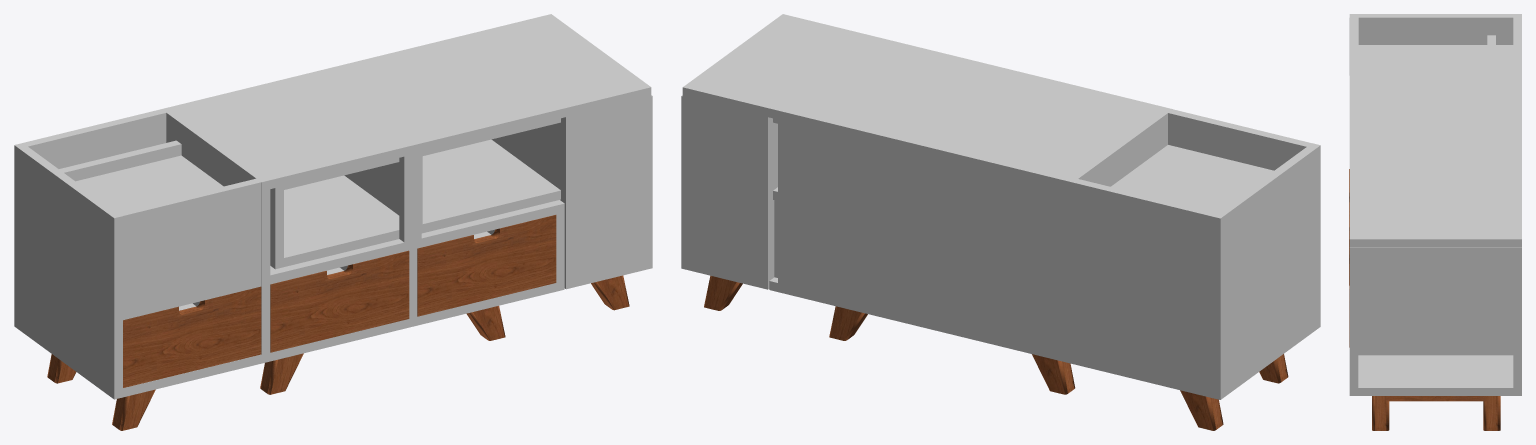
File: ishana.glb
The picture shows the model from 3 angles, left to right: view 1: azimuth 30°, elevation 25°; view 2: azimuth 150°, elevation 25°; view 3: azimuth 270°, elevation 25°; orthographic projection. The views are drawn at different scales.
Parts seen in each view (by area): view 1: G-__555618, G-__556005, G-__555627, G-__555690, G-__555861, G-__555807, G-__555753, G-__555717, G-__555645, G-__555888, G-__555654, G-__555600 (+7 smaller); view 2: G-__555636, G-__555618, G-__555888, G-__555627, G-__556005, G-__555654, G-__555717, G-__555645, G-__555690, G-__556077, G-__556050, G-__556095; view 3: G-__555618, G-__556005, G-__555627, G-__555654, G-__555645, G-__555690, G-__555888, G-__556014.
Part boxes in pixels (x1=…): G-__555618: x1=170, y1=14, x2=651, y2=188; G-__556005: x1=270, y1=95, x2=652, y2=310; G-__555627: x1=14, y1=143, x2=122, y2=390; G-__555690: x1=118, y1=178, x2=261, y2=320; G-__555861: x1=270, y1=250, x2=409, y2=352; G-__555807: x1=417, y1=215, x2=556, y2=316; G-__555753: x1=123, y1=286, x2=261, y2=387; G-__555717: x1=14, y1=280, x2=564, y2=399; G-__555645: x1=162, y1=107, x2=270, y2=354; G-__555888: x1=23, y1=109, x2=166, y2=168; G-__555654: x1=76, y1=155, x2=223, y2=212; G-__555600: x1=270, y1=200, x2=564, y2=284; G-__555636: x1=778, y1=119, x2=1064, y2=352; G-__555618: x1=682, y1=14, x2=1164, y2=189; G-__555888: x1=1073, y1=179, x2=1216, y2=388; G-__555627: x1=1212, y1=143, x2=1320, y2=390; G-__556005: x1=681, y1=95, x2=777, y2=310; G-__555654: x1=1111, y1=145, x2=1273, y2=212; G-__555717: x1=769, y1=277, x2=1320, y2=399; G-__555645: x1=1064, y1=107, x2=1172, y2=354; G-__555690: x1=1168, y1=109, x2=1311, y2=170; G-__556077: x1=1032, y1=354, x2=1075, y2=394; G-__556050: x1=1180, y1=390, x2=1223, y2=430; G-__556095: x1=829, y1=306, x2=867, y2=340; G-__555618: x1=1349, y1=79, x2=1521, y2=247; G-__556005: x1=1349, y1=247, x2=1521, y2=430; G-__555627: x1=1349, y1=14, x2=1521, y2=75; G-__555654: x1=1358, y1=45, x2=1513, y2=75; G-__555645: x1=1349, y1=75, x2=1521, y2=79; G-__555690: x1=1350, y1=17, x2=1358, y2=75; G-__555888: x1=1513, y1=17, x2=1521, y2=75; G-__556014: x1=1487, y1=35, x2=1495, y2=75.
Bounding box in the file's own units: 1.24 × 0.5 × 0.4015.
2 materials, 1 textured.
